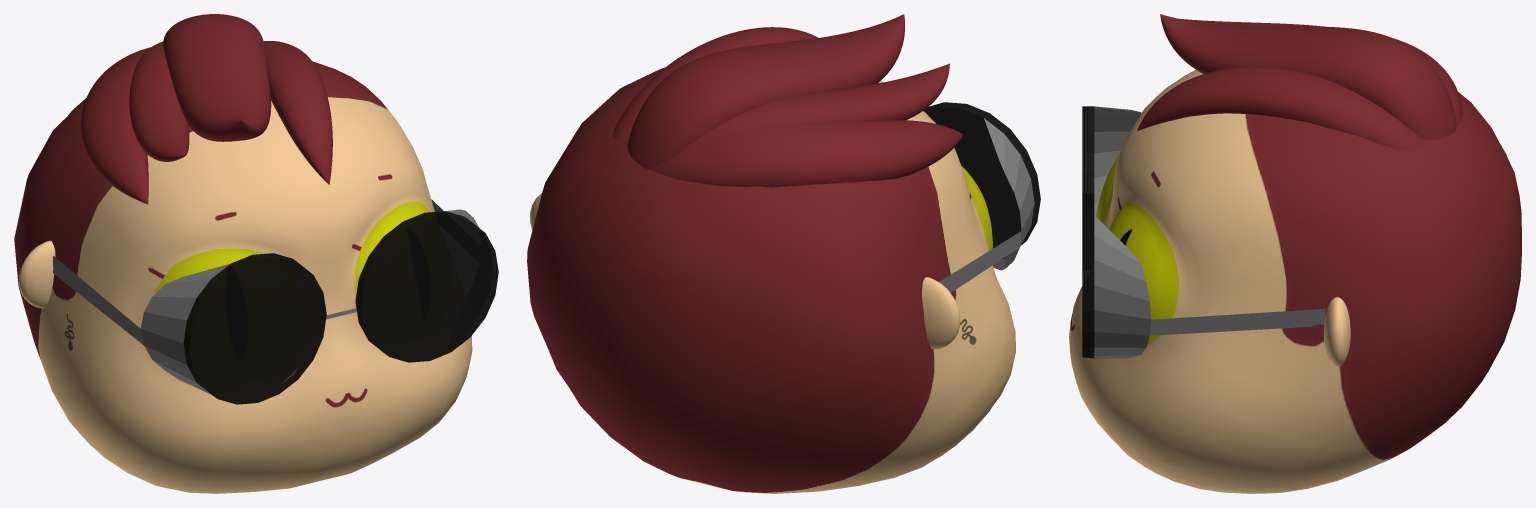
Rendered from clowley.glb.
3 renders of one model, left to right at view 1: azimuth 30°, elevation 25°; view 2: azimuth 150°, elevation 25°; view 3: azimuth 270°, elevation 25°, orthographic. The views are drawn at different scales.
Visible parts, largest first — view 1: body, Circle, NurbsPath, NurbsPath.001, NurbsPath.002, NurbsPath.003, ear; view 2: body, NurbsPath, NurbsPath.001, Circle, NurbsPath.003, NurbsPath.002, ear; view 3: body, NurbsPath, Circle, NurbsPath.002, ear, NurbsPath.001.
Part boxes in pixels (x1,y1,x2,y2): body: (14,61,472,493); Circle: (53,199,498,404); NurbsPath: (163,14,271,141); NurbsPath.001: (80,47,150,204); NurbsPath.002: (263,41,332,184); NurbsPath.003: (129,41,189,161); ear: (19,240,55,308); body: (527,67,1015,493); NurbsPath: (627,14,904,169); NurbsPath.001: (650,120,963,187); Circle: (923,102,1040,292); NurbsPath.003: (676,63,949,155); NurbsPath.002: (613,27,817,141); ear: (530,193,960,349); body: (1069,70,1521,493); NurbsPath: (1160,14,1456,140); Circle: (1082,106,1325,358); NurbsPath.002: (1137,67,1424,151); ear: (1324,297,1350,367); NurbsPath.001: (1394,38,1462,127).
Bounding box in the file's own units: 1.02 × 0.978 × 0.9678.
Materials: 5 (1 with a texture image).
